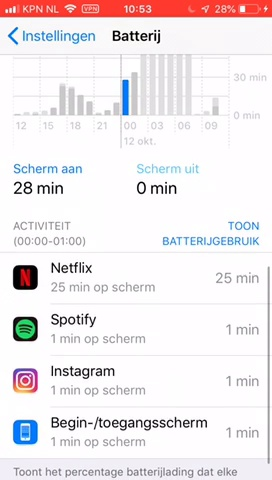activity: (10, 215, 90, 249)
app: (10, 258, 264, 297), (9, 310, 263, 349), (11, 360, 265, 399), (10, 411, 264, 450)
